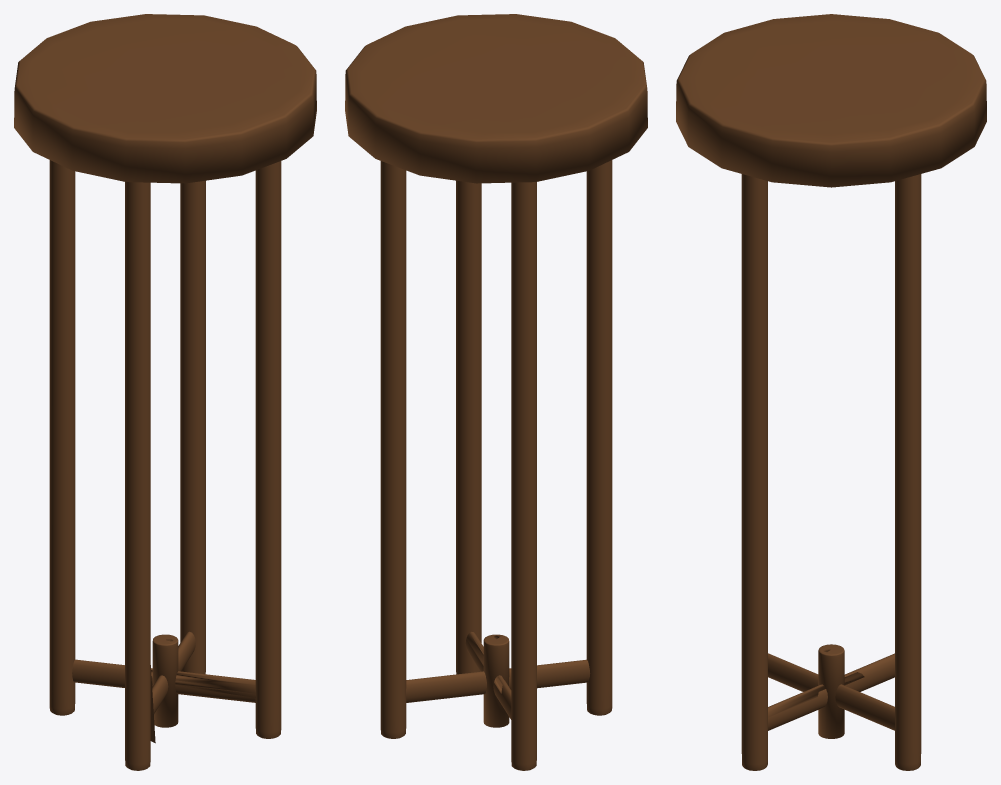
File: stool.fbx
3 views of the same model, side by side, from view 1: azimuth 30°, elevation 25°; view 2: azimuth 150°, elevation 25°; view 3: azimuth 270°, elevation 25° (orthographic).
Visible parts, largest first — view 1: Stool.001; view 2: Stool.001; view 3: Stool.001.
Boxes of the visible parts, <box> form: Stool.001: <box>14,14,316,770</box>; Stool.001: <box>345,14,647,770</box>; Stool.001: <box>676,14,986,770</box>.
Size of the model in its own units: 0.3825 by 0.8916 by 0.3825.
